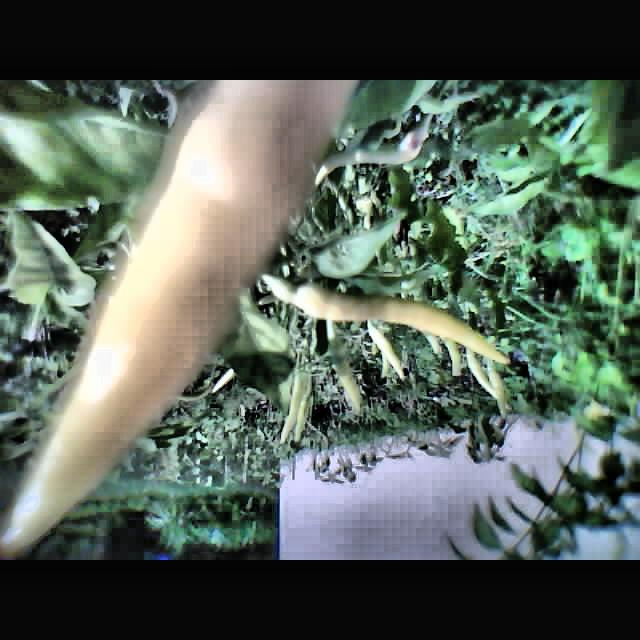Cabai: (17, 87, 345, 552)
